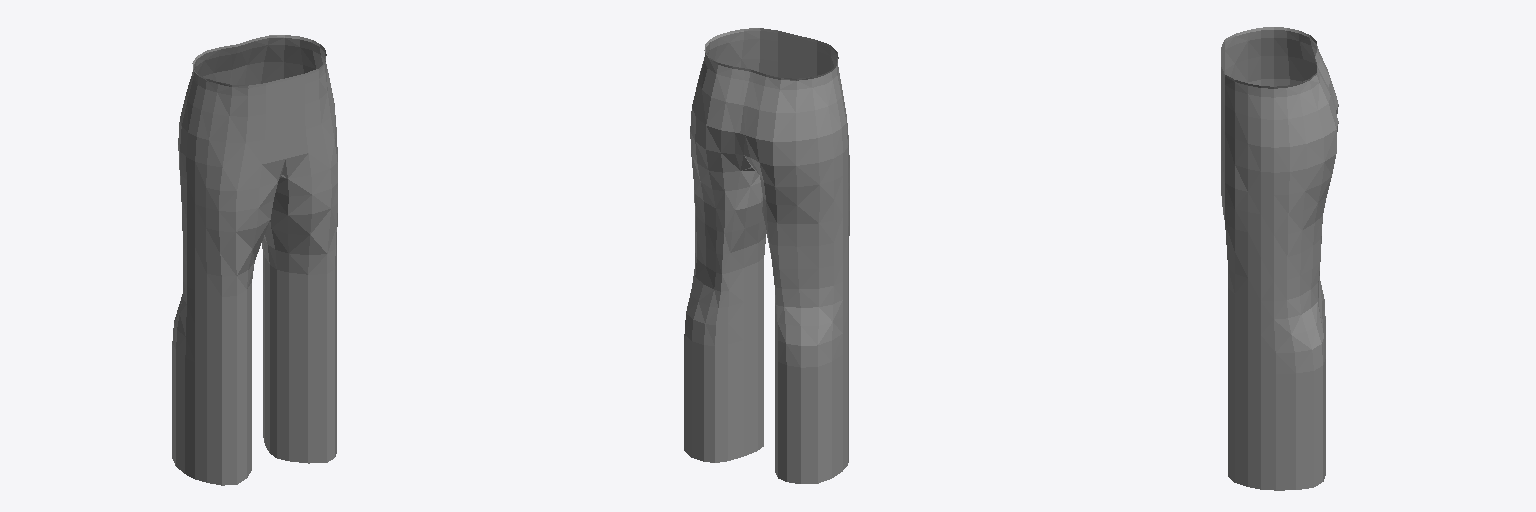
The model's file is pant_denim.obj.
3 views of the same model, side by side, from view 1: azimuth 30°, elevation 25°; view 2: azimuth 150°, elevation 25°; view 3: azimuth 270°, elevation 25° (orthographic).
Parts seen in each view (by area): view 1: Form220_Mesh; view 2: Form220_Mesh; view 3: Form220_Mesh.
Part boxes in pixels (left/top/right/bottom): Form220_Mesh: left=172, top=35, right=337, bottom=485; Form220_Mesh: left=684, top=28, right=849, bottom=483; Form220_Mesh: left=1221, top=27, right=1338, bottom=490.
Size of the model in its own units: 0.1593 by 0.4177 by 0.1117.